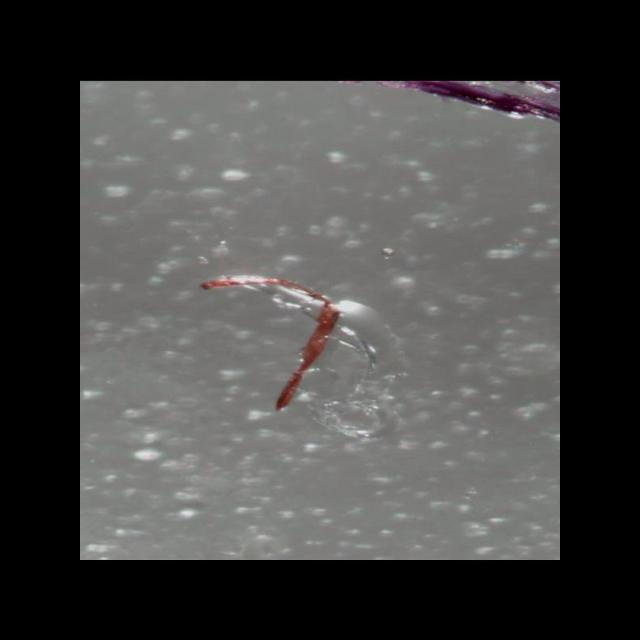Fibre: (196, 273, 366, 415)
